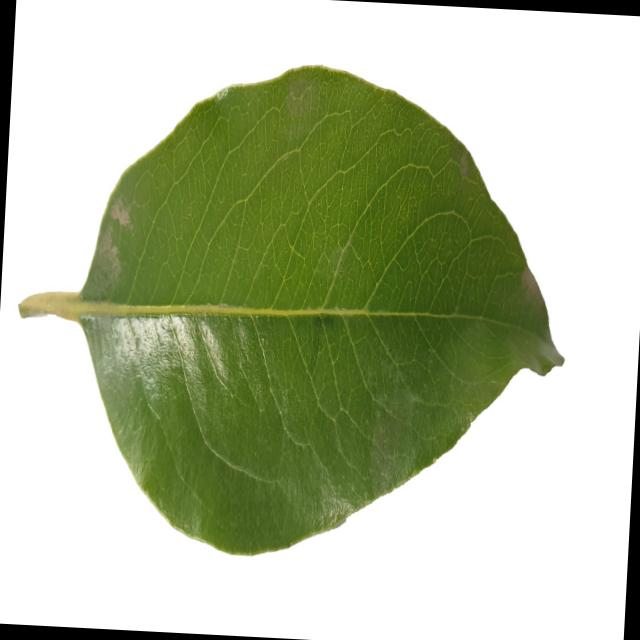Medicinal-Sandalwood: (6, 47, 582, 575)
